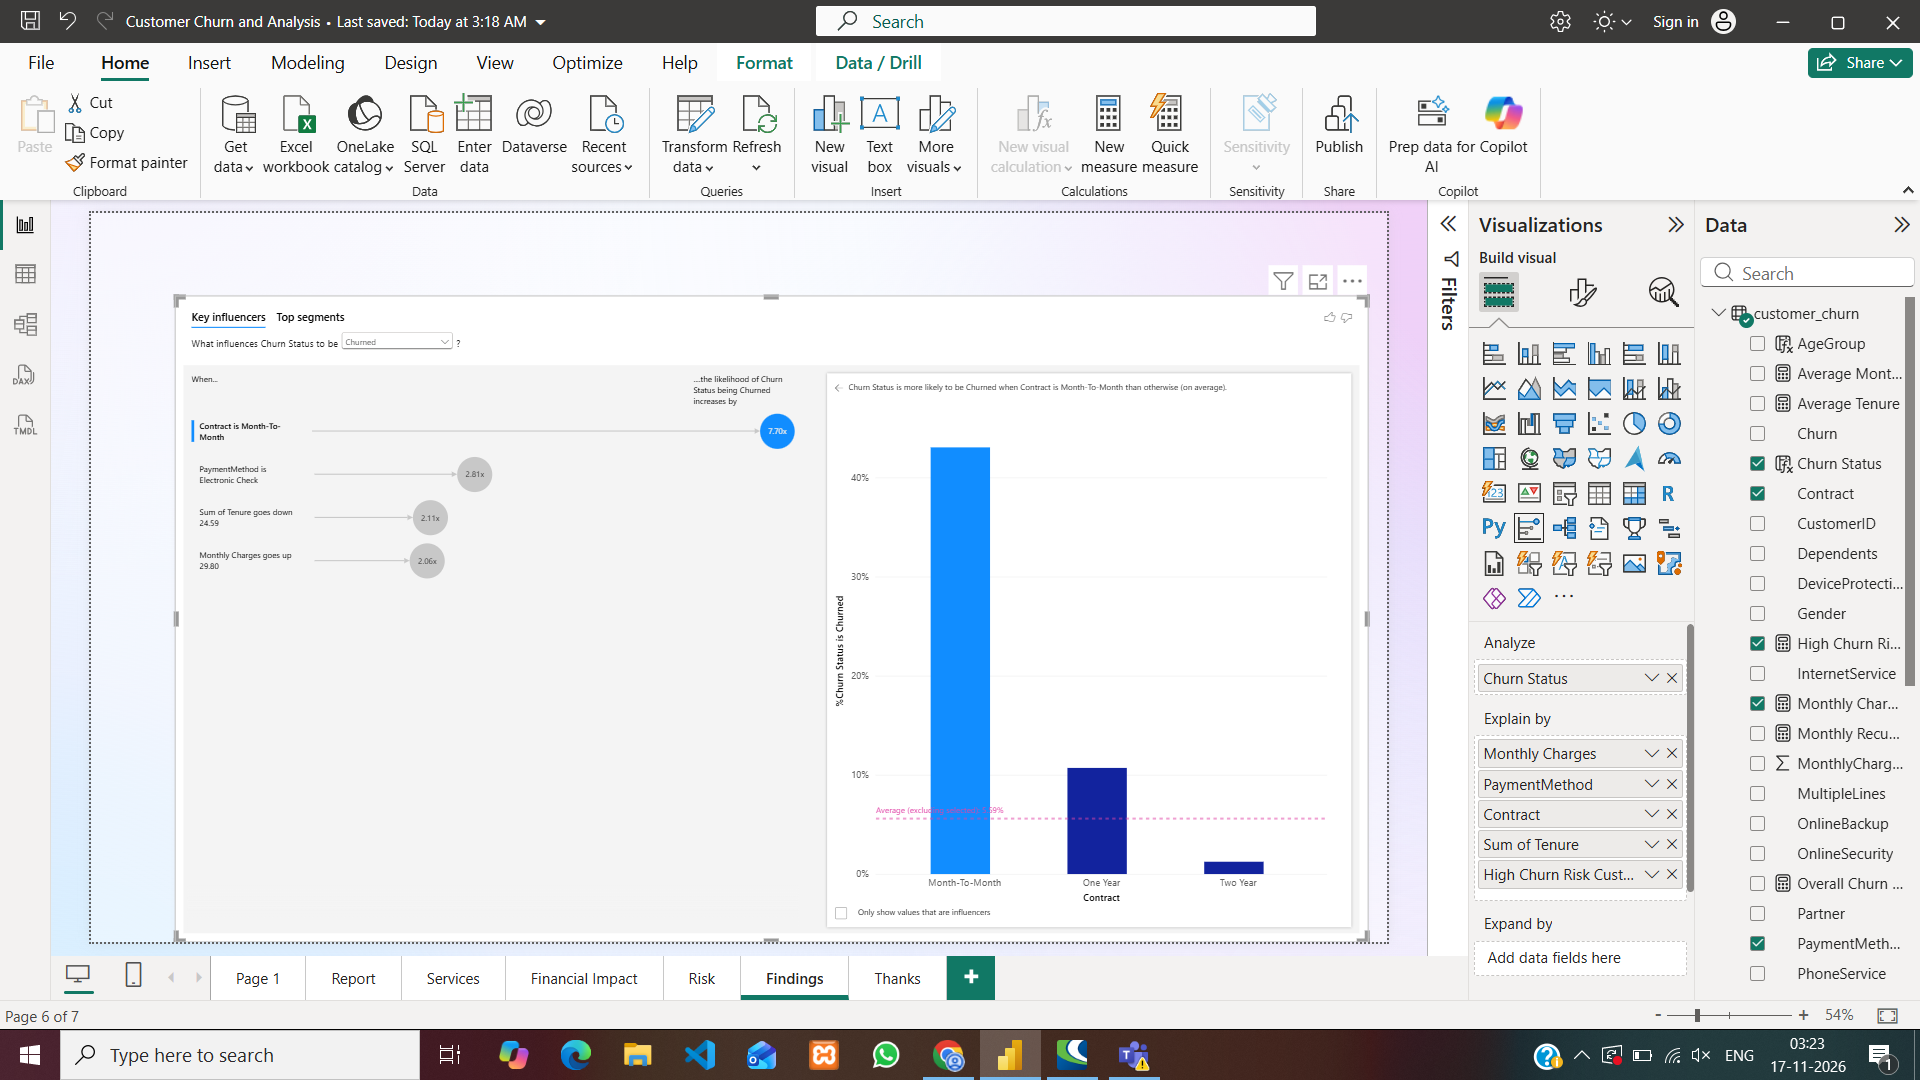

Layout of this report page (visuals, bound fields, positions):
{"tool":"powerbi","page":{"name":"Findings","canvas":[1920,1080],"ordinal":5},"visuals":[{"type":"keyDriversVisual","fields":{"ExplainBy":["customer_churn.Monthly Charges","customer_churn.PaymentMethod","customer_churn.Contract","Sum(customer_churn.Tenure)","customer_churn.High Churn Risk Customer"],"Target":["customer_churn.Churn Status"]},"box":[124.9,123.1,1768,957.3],"z":0}]}

Visuals, with their boxes on the page's 1920x1080 design canvas (x1, y1, x2, y2). These are canvas units, not pixel positions in the 1920x1080 screenshot, which may show the page scaled, cropped or inside an application window:
keyDriversVisual - customer_churn.Monthly Charges x customer_churn.PaymentMethod: locate(125, 123, 1893, 1080)
